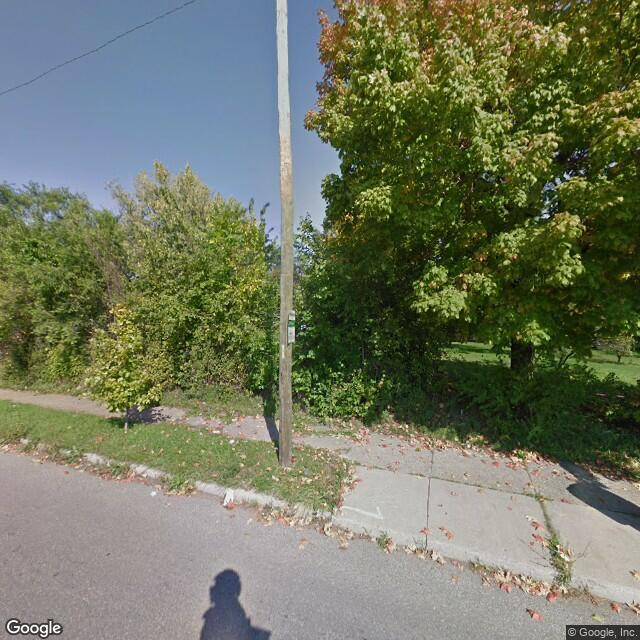litter: (223, 485, 236, 506), (150, 488, 158, 498)
